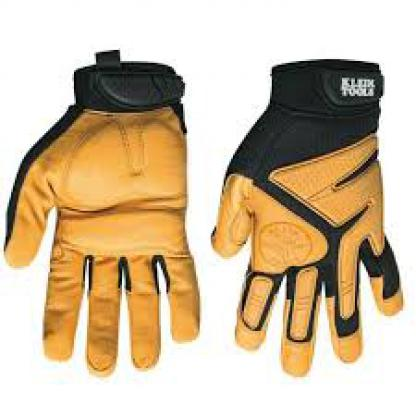with_gloves: (2, 48, 201, 375), (209, 57, 407, 377)
